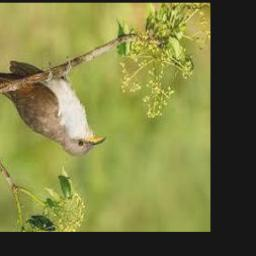Cuckoo: (0, 62, 106, 157)
